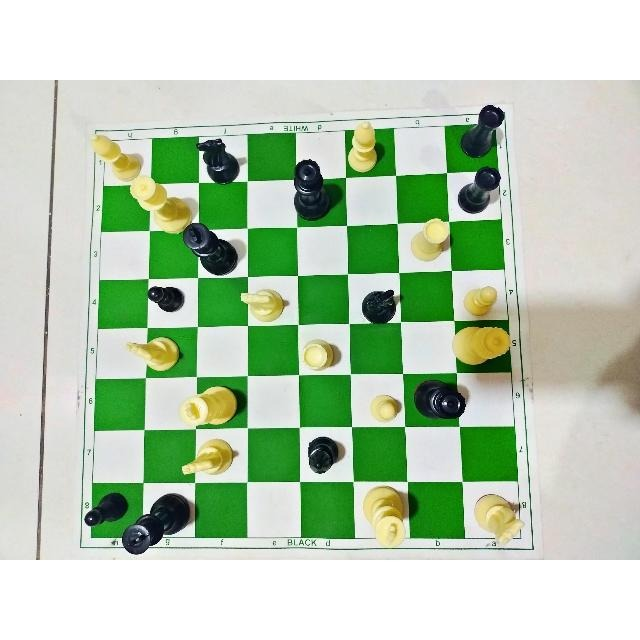black-bishop: (308, 434, 340, 481)
black-king: (118, 487, 188, 558), (178, 220, 238, 276)
black-knight: (195, 136, 242, 184), (359, 285, 400, 327)
black-pawn: (80, 485, 124, 533), (147, 283, 186, 316)
black-queen: (291, 158, 332, 224), (416, 378, 467, 424)
black-rook: (455, 101, 505, 157), (455, 163, 503, 215)
white-bishop: (84, 128, 138, 180), (343, 121, 384, 174)
white-king: (361, 485, 410, 552), (177, 378, 232, 430)
white-knight: (470, 491, 527, 547), (178, 436, 234, 484), (124, 335, 182, 374), (238, 285, 285, 329)
white-pawn: (461, 281, 499, 321), (364, 392, 399, 422)
white-queen: (126, 175, 192, 231), (454, 323, 512, 371)
white-rook: (406, 213, 452, 266), (300, 337, 334, 373)
